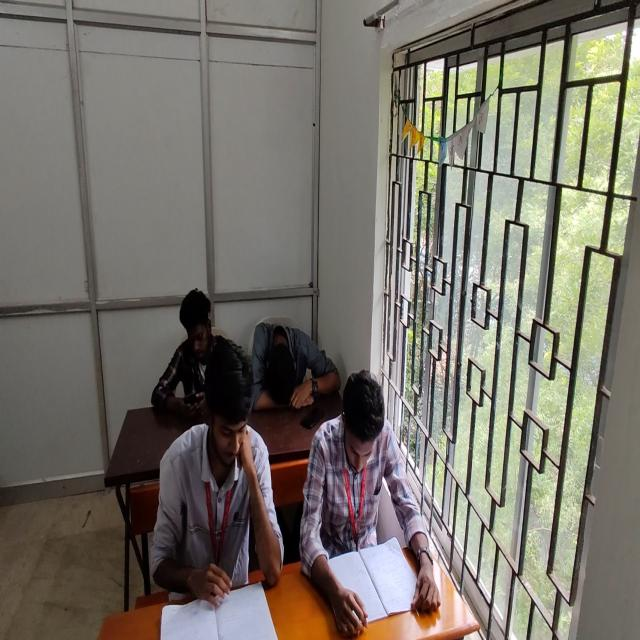reading: (150, 333, 284, 612), (332, 366, 446, 637)
sleeping: (250, 323, 338, 412)
using_mobile: (151, 287, 230, 420)
